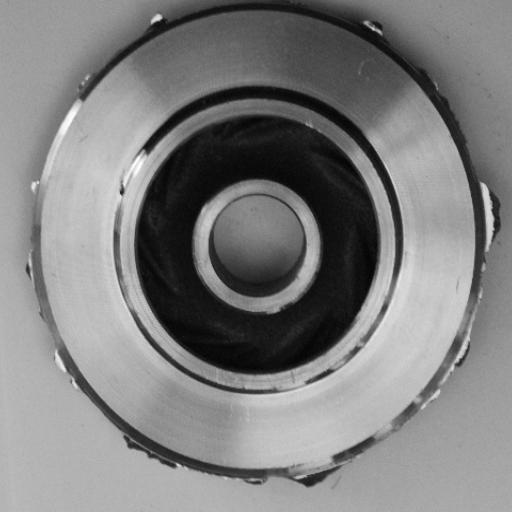casting_with_burr: (23, 1, 506, 494)
crack: (109, 134, 156, 219)
